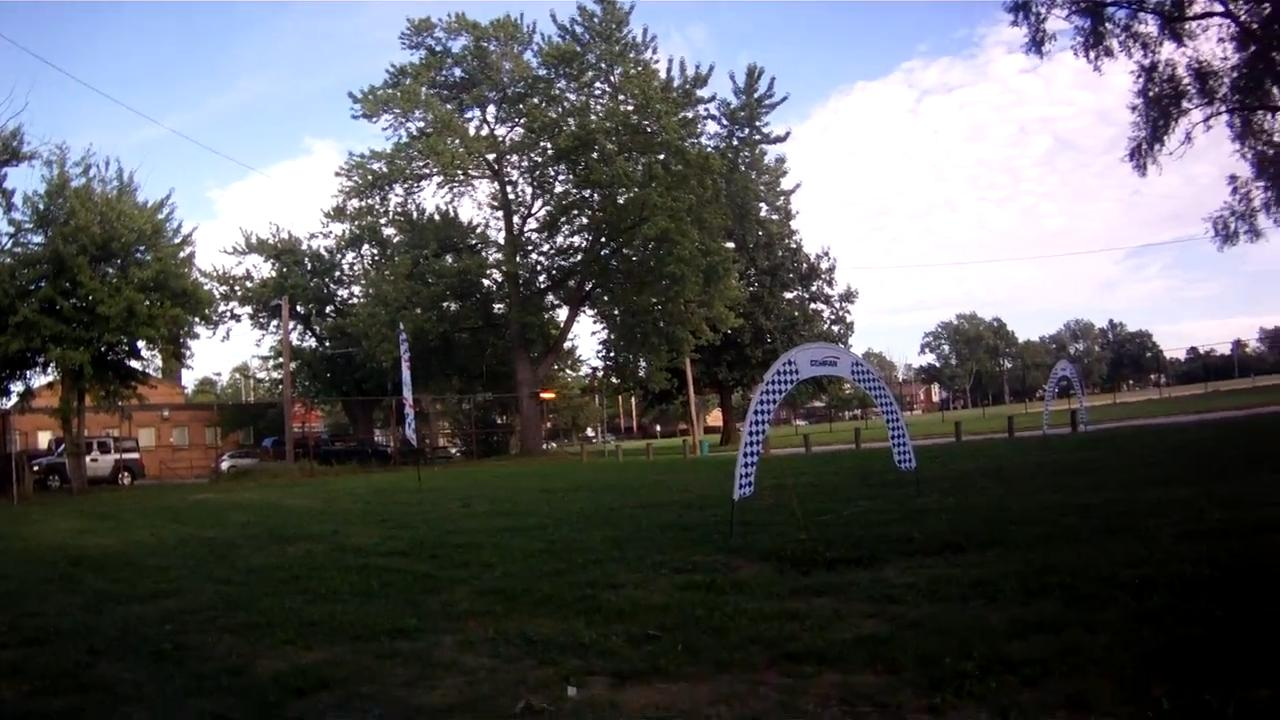gate: (729, 339, 919, 498)
